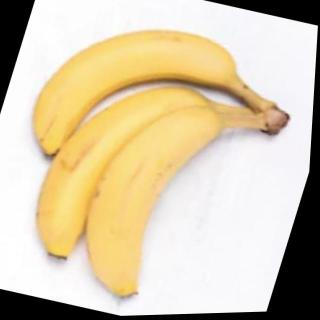banana: (18, 58, 222, 288), (16, 0, 249, 197), (64, 85, 232, 313)
